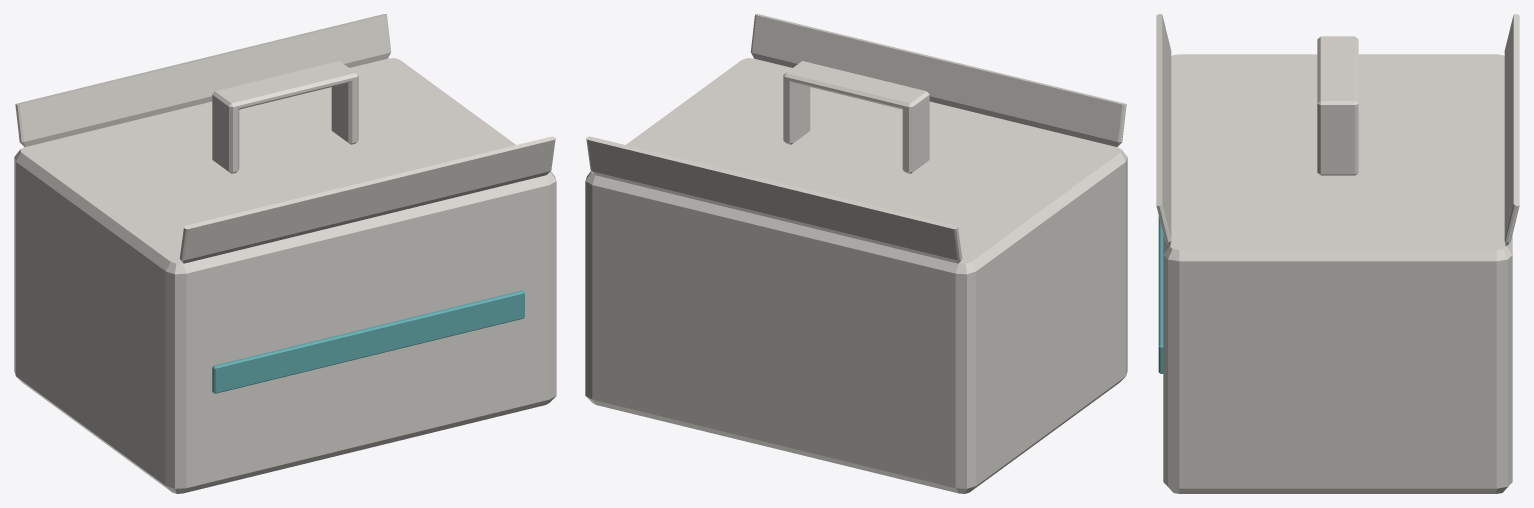
Rendered from fast-food-and-drive-thru-takeaway-carrier-box-637af095__16176.glb.
The picture shows the model from 3 angles, left to right: view 1: azimuth 30°, elevation 25°; view 2: azimuth 150°, elevation 25°; view 3: azimuth 270°, elevation 25°; orthographic projection. The views are drawn at different scales.
Visible parts, largest first — view 1: takeaway-carrier-box; view 2: takeaway-carrier-box; view 3: takeaway-carrier-box.
Boxes of the visible parts, x1=… form: takeaway-carrier-box: x1=14, y1=14, x2=556, y2=493; takeaway-carrier-box: x1=585, y1=14, x2=1127, y2=493; takeaway-carrier-box: x1=1156, y1=14, x2=1519, y2=493.
Size of the model in its own units: 0.3 by 0.228 by 0.229.
